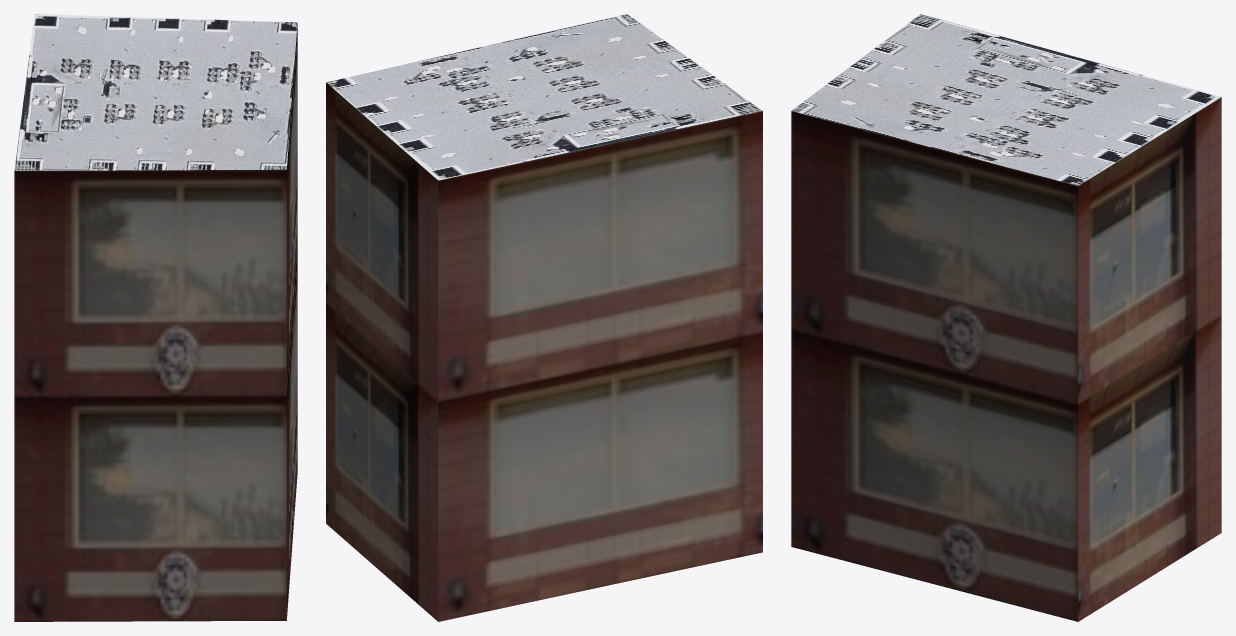
Rendered from ResTex__4885.fbx.
3 renders of one model, left to right at view 1: azimuth 30°, elevation 25°; view 2: azimuth 150°, elevation 25°; view 3: azimuth 270°, elevation 25°, orthographic. The views are drawn at different scales.
Parts seen in each view (by area): view 1: CityEngineMaterial_13_m, CityEngineMaterial_4_m; view 2: CityEngineMaterial_13_m, CityEngineMaterial_4_m; view 3: CityEngineMaterial_13_m, CityEngineMaterial_4_m.
Boxes of the visible parts, left/top/right/bottom form: CityEngineMaterial_13_m: left=14, top=24, right=297, bottom=621; CityEngineMaterial_4_m: left=14, top=14, right=297, bottom=170; CityEngineMaterial_13_m: left=326, top=82, right=762, bottom=621; CityEngineMaterial_4_m: left=326, top=14, right=762, bottom=180; CityEngineMaterial_13_m: left=791, top=97, right=1221, bottom=621; CityEngineMaterial_4_m: left=791, top=14, right=1220, bottom=185.
Size of the model in its own units: 5.08 by 6 by 5.37.
Materials: 2 (2 with a texture image).
